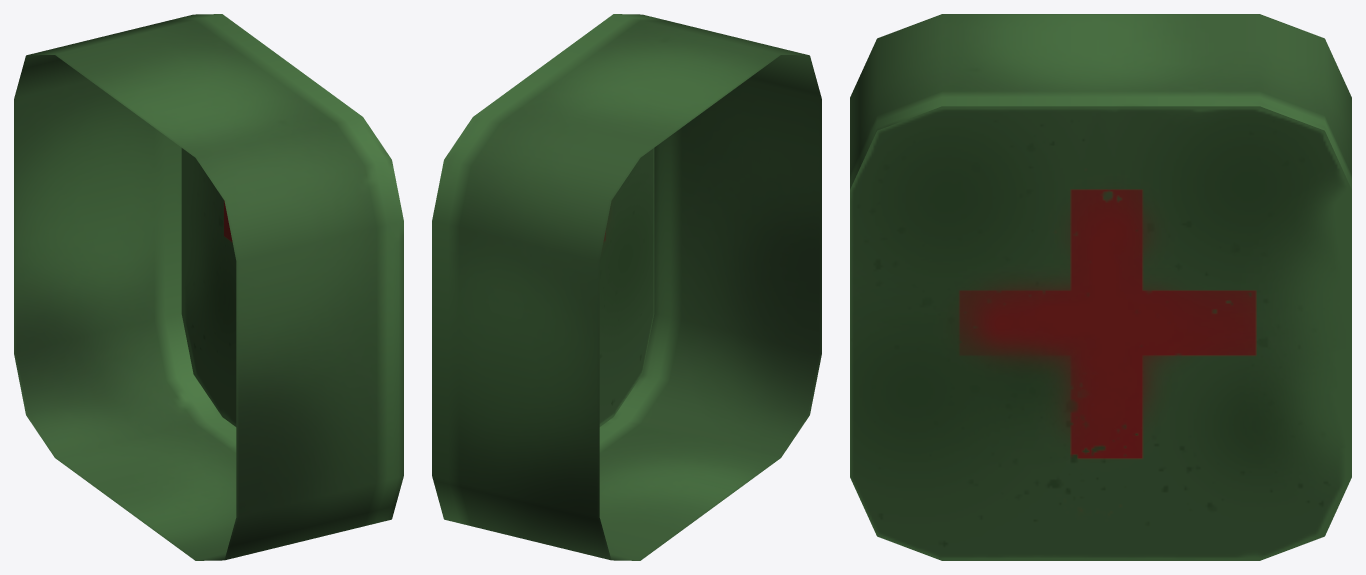
The model's file is FirstAidKit.fbx.
3 views of the same model, side by side, from view 1: azimuth 30°, elevation 25°; view 2: azimuth 150°, elevation 25°; view 3: azimuth 270°, elevation 25° (orthographic). The views are drawn at different scales.
Parts seen in each view (by area): view 1: Cube; view 2: Cube; view 3: Cube.
Boxes of the visible parts, bbox=[...] form: Cube: bbox=[14, 14, 403, 560]; Cube: bbox=[432, 14, 821, 560]; Cube: bbox=[850, 14, 1351, 560].
Size of the model in its own units: 86.98 by 200 by 200.
